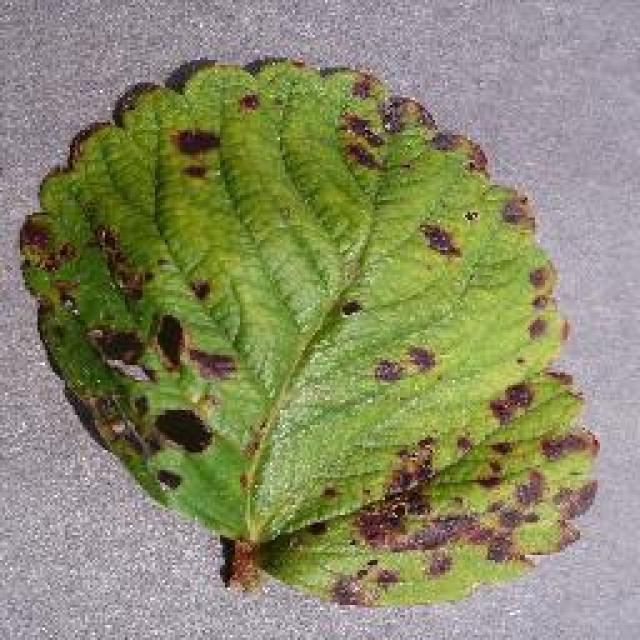Strawberry leaf scorch: (85, 180, 463, 482)
